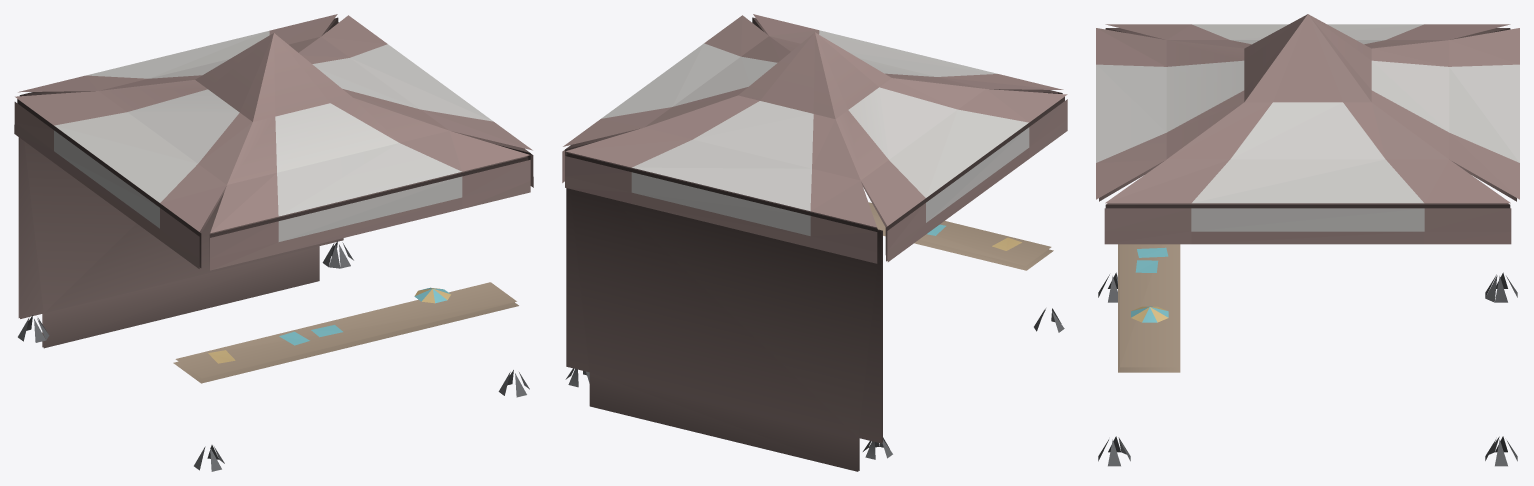
The model's file is tent.lod.glb.
The picture shows the model from 3 angles, left to right: view 1: azimuth 30°, elevation 25°; view 2: azimuth 150°, elevation 25°; view 3: azimuth 270°, elevation 25°; orthographic projection. The views are drawn at different scales.
Parts seen in each view (by area): view 1: tent; view 2: tent; view 3: tent.
Part boxes in pixels (x1,y1,x2,y2): tent: (14,14,533,471); tent: (562,14,1067,471); tent: (1096,14,1519,466).
Bounding box in the file's own units: 3.6 × 3.6 × 3.6.
